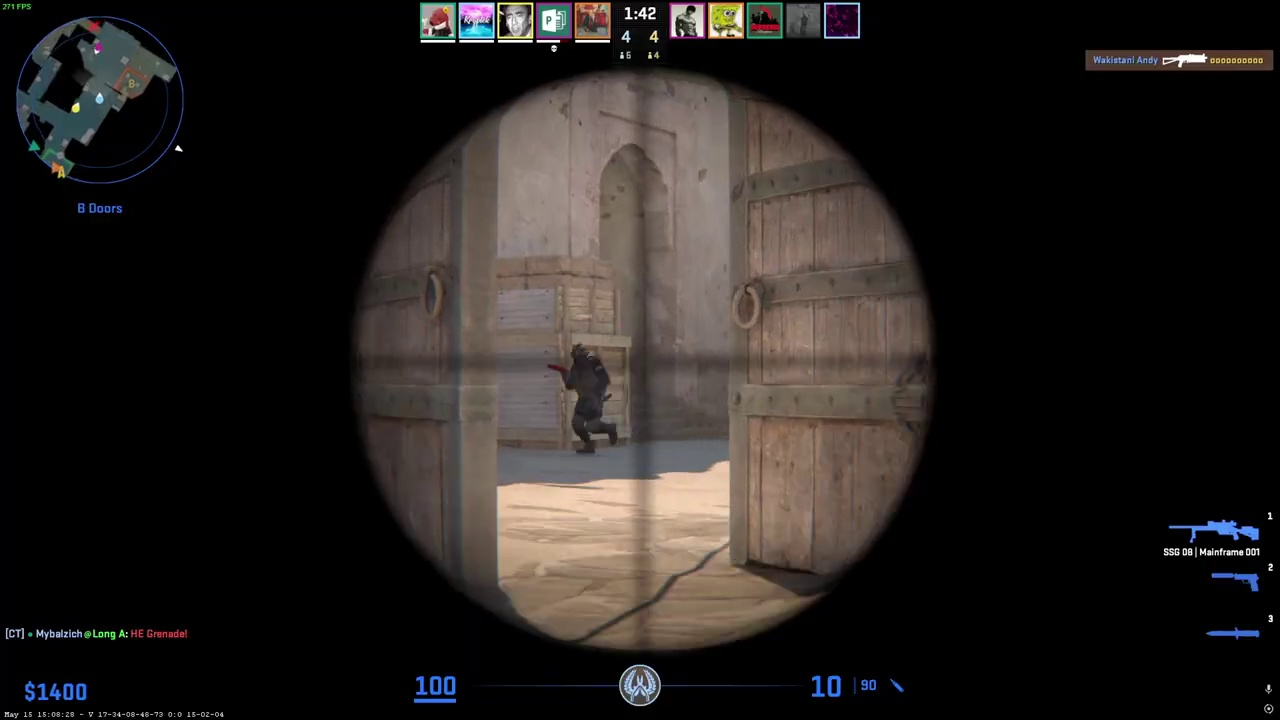CT: (565, 343, 615, 454)
